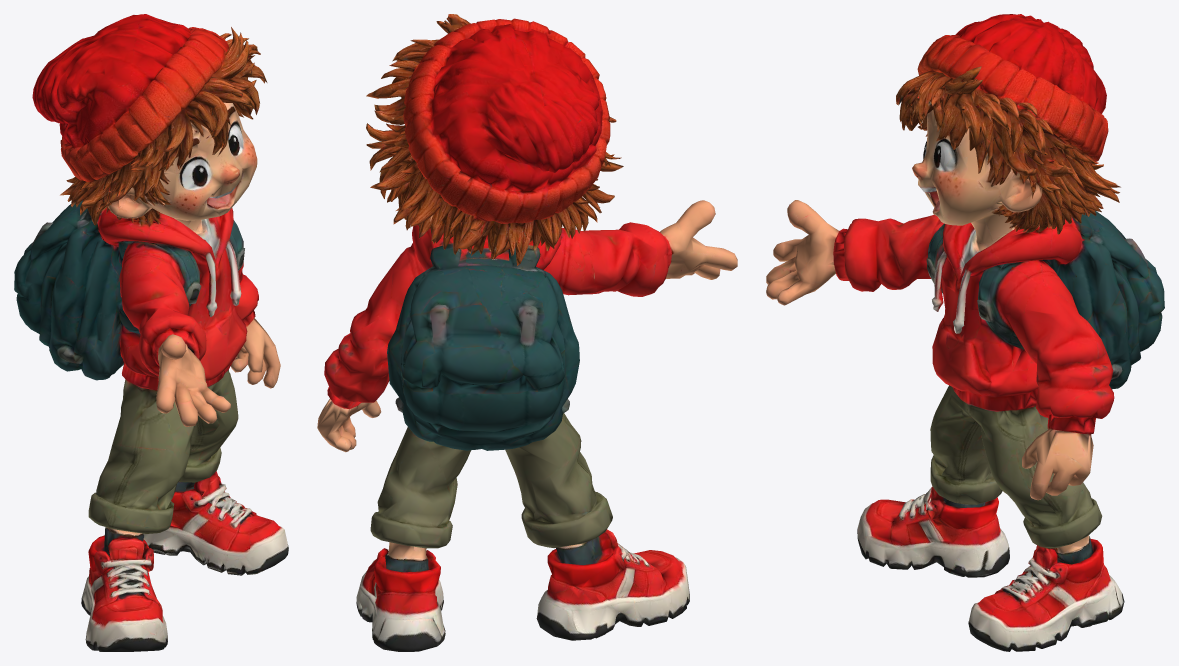
The model's file is follow.glb.
3 views of the same model, side by side, from view 1: azimuth 30°, elevation 25°; view 2: azimuth 150°, elevation 25°; view 3: azimuth 270°, elevation 25° (orthographic). The views are drawn at different scales.
Size of the model in its own units: 0.9154 by 1.9 by 1.21.
Materials: 1 (1 with a texture image).
